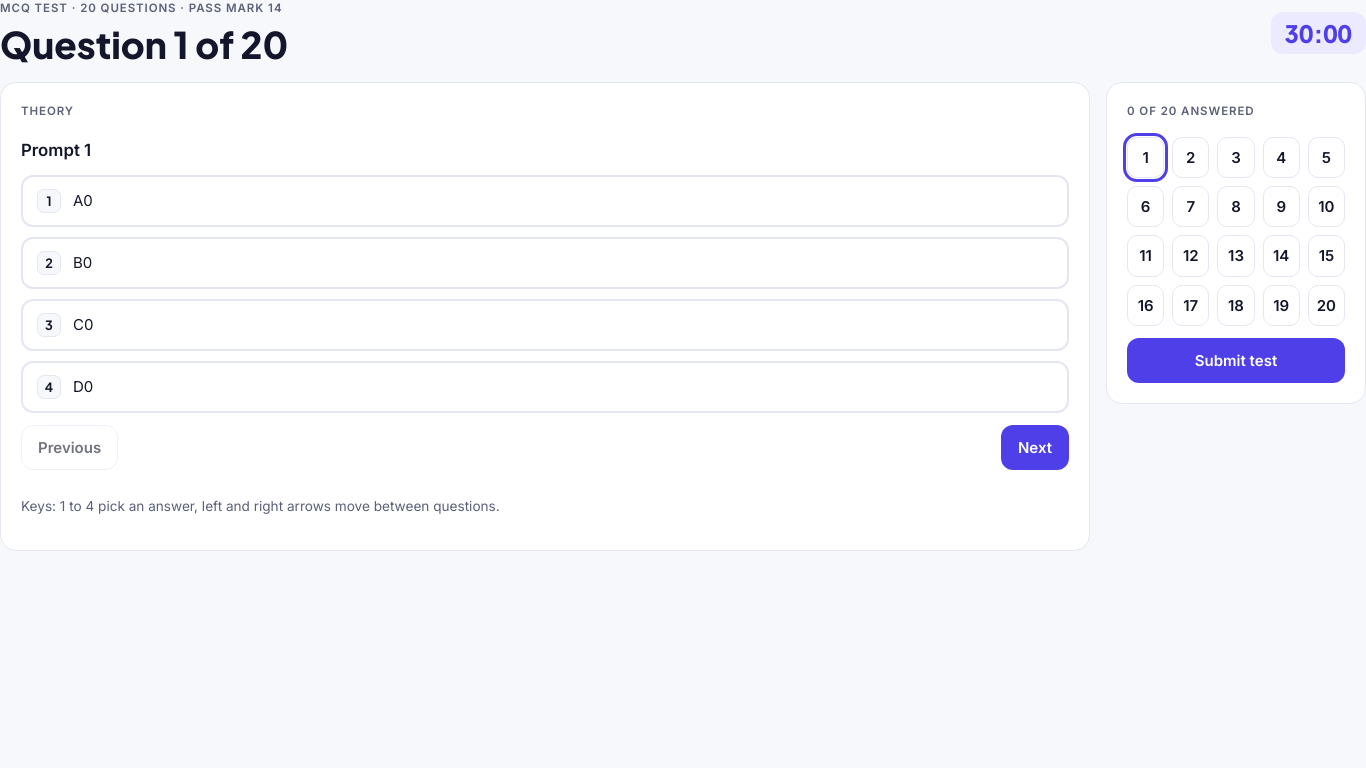
Test case: submitting › keeps the test open and shows the error when submitting fails
Expected: the text "Prompt 1" is shown, [21,140,91,160]
Click the button "Submit test" at (1236, 360), box [1127,338,1345,383]
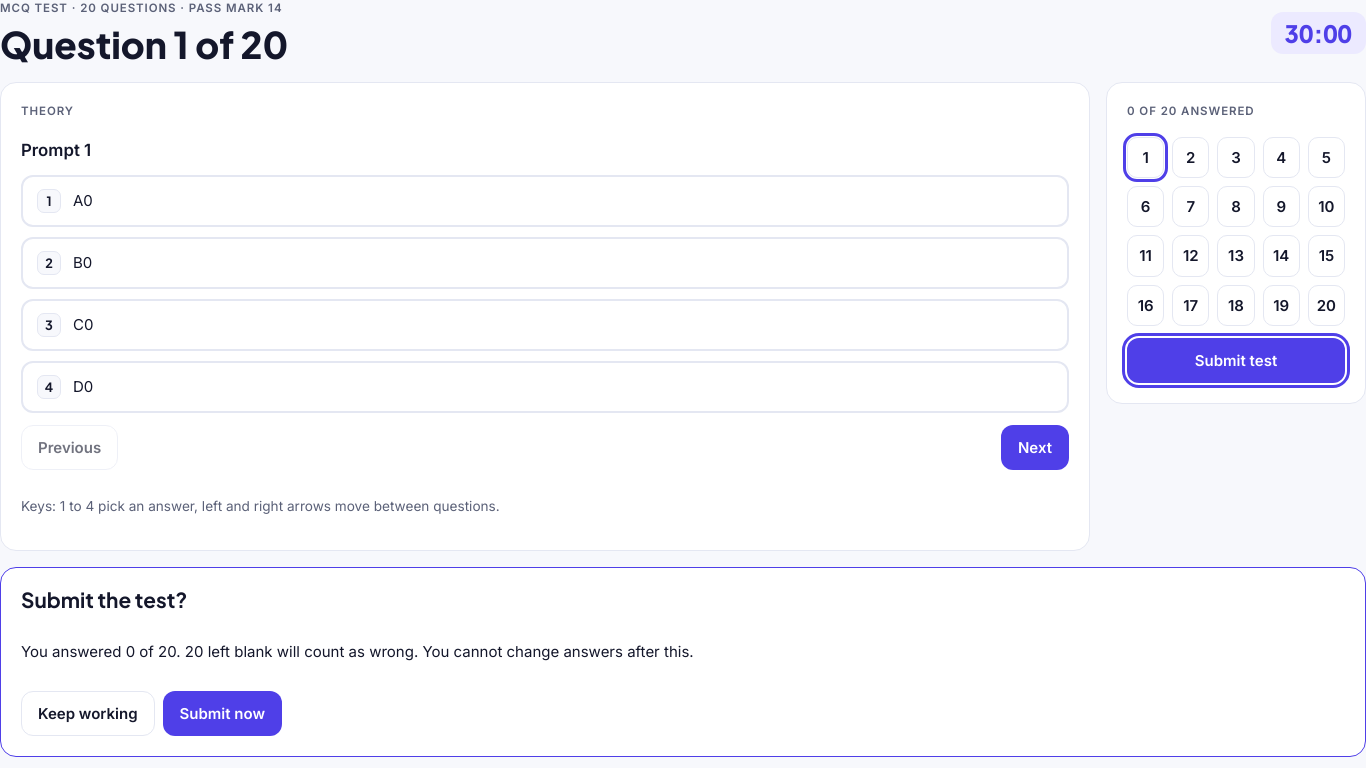
Click the button "Submit now" at (222, 713), box [162,691,282,736]
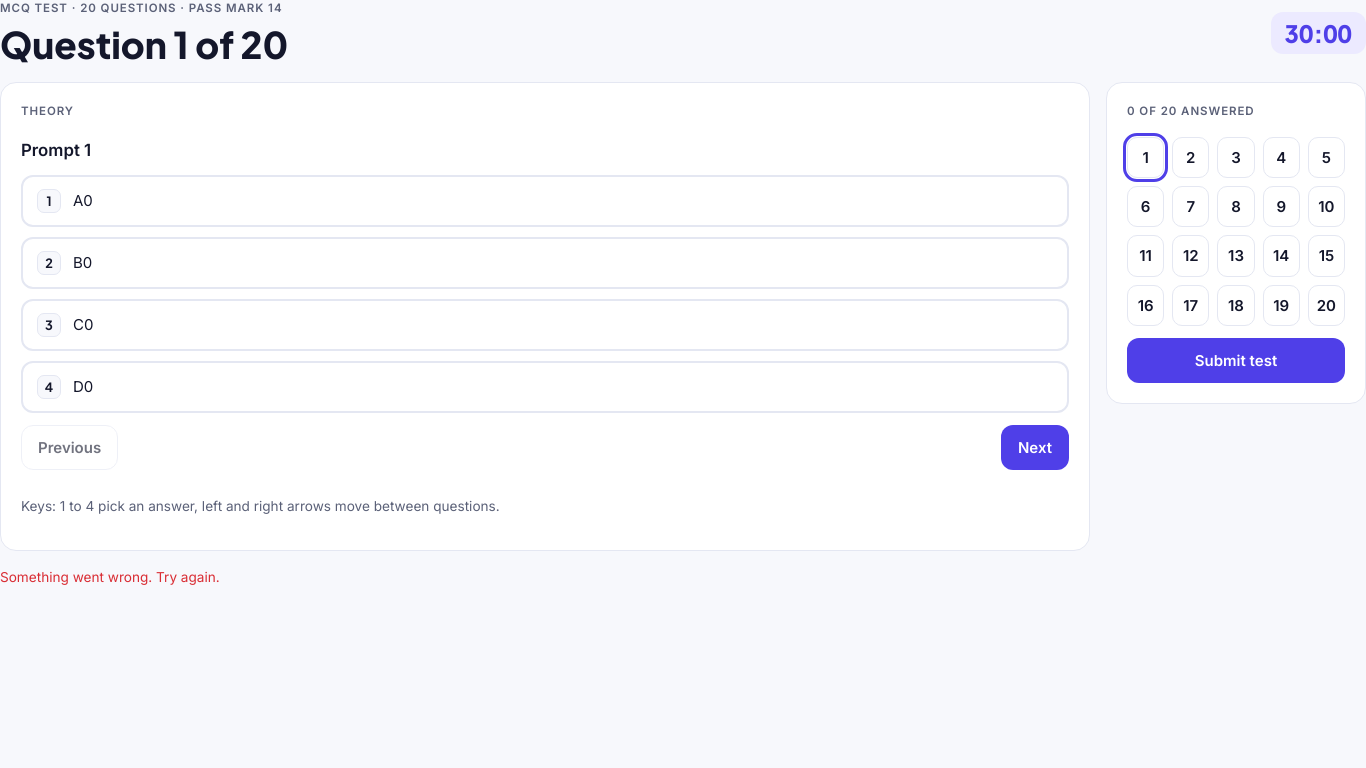
Expected: the text "Prompt 1" is shown, [21,140,91,160]
Now the message shows "Something went wrong", box [0,569,220,585]
